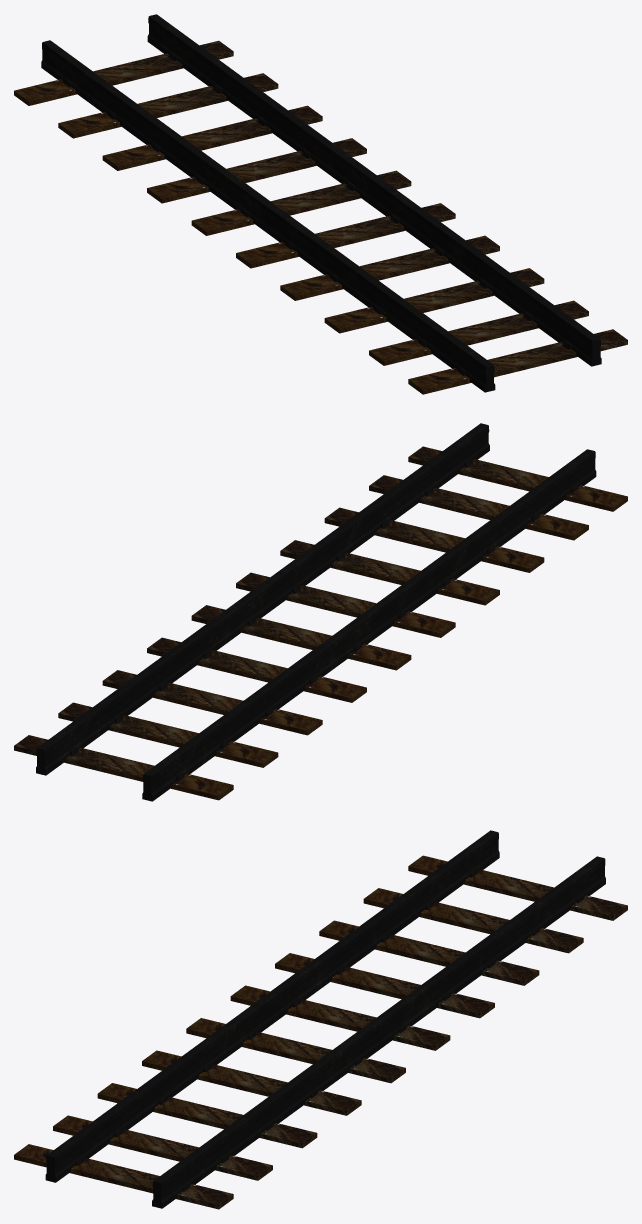
3 views of the same model, one above another, from view 1: azimuth 30°, elevation 25°; view 2: azimuth 150°, elevation 25°; view 3: azimuth 330°, elevation 25° (orthographic).
Parts seen in each view (by area): view 1: Track_01polySurface161_lambert1_0.001; view 2: Track_01polySurface161_lambert1_0.001; view 3: Track_01polySurface161_lambert1_0.001.
Boxes of the visible parts, x1,y1,x2,y2 form: Track_01polySurface161_lambert1_0.001: [14, 14, 627, 394]; Track_01polySurface161_lambert1_0.001: [14, 423, 627, 801]; Track_01polySurface161_lambert1_0.001: [14, 830, 627, 1209].
Bounding box in the file's own units: 40 × 5.12 × 150.
1 material, 1 textured.
